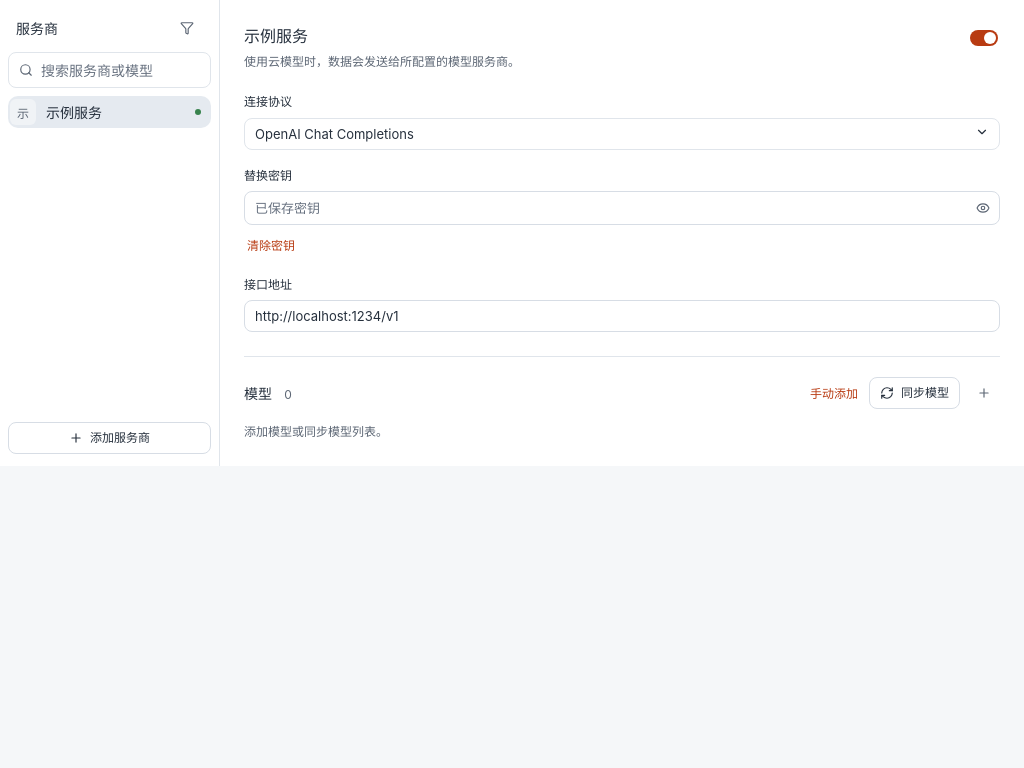
Test: 全选只暂存未添加模型，逐项取消后退出不会保存，重新打开清空选择
Click the button "同步模型": (914, 393) top-left (869, 377), bottom-right (960, 409)
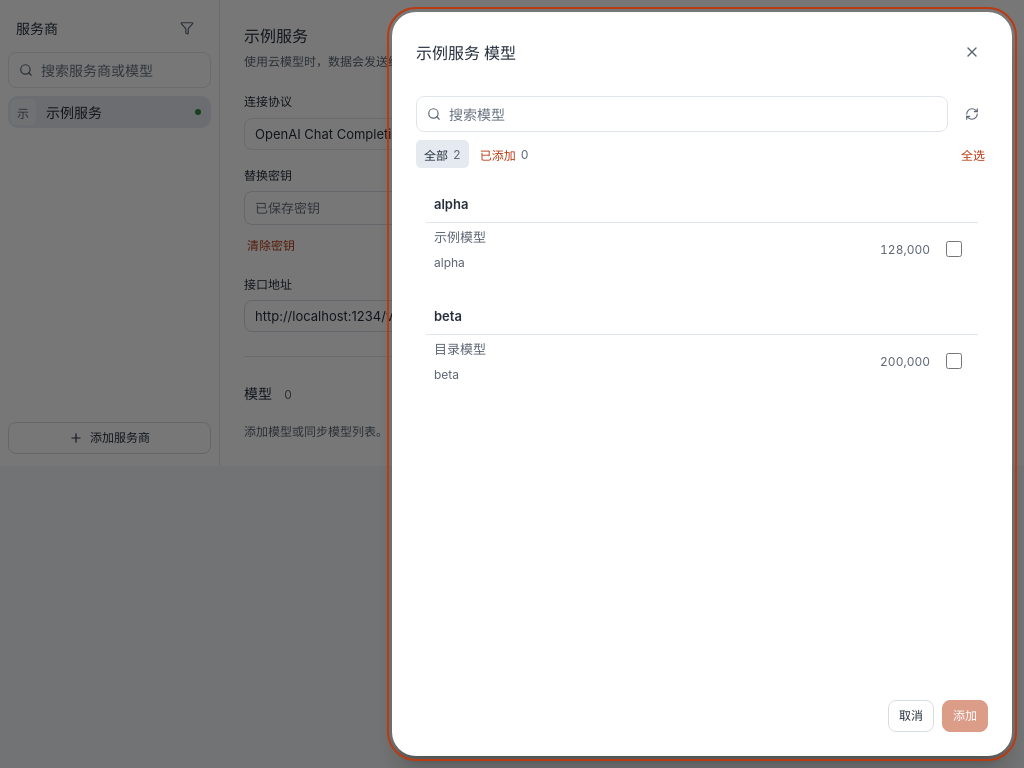
Expected: the checkbox named "选择目录模型" is shown, top-left (946, 354), bottom-right (962, 370)
Click the button "全选": (973, 154) top-left (958, 140), bottom-right (988, 168)
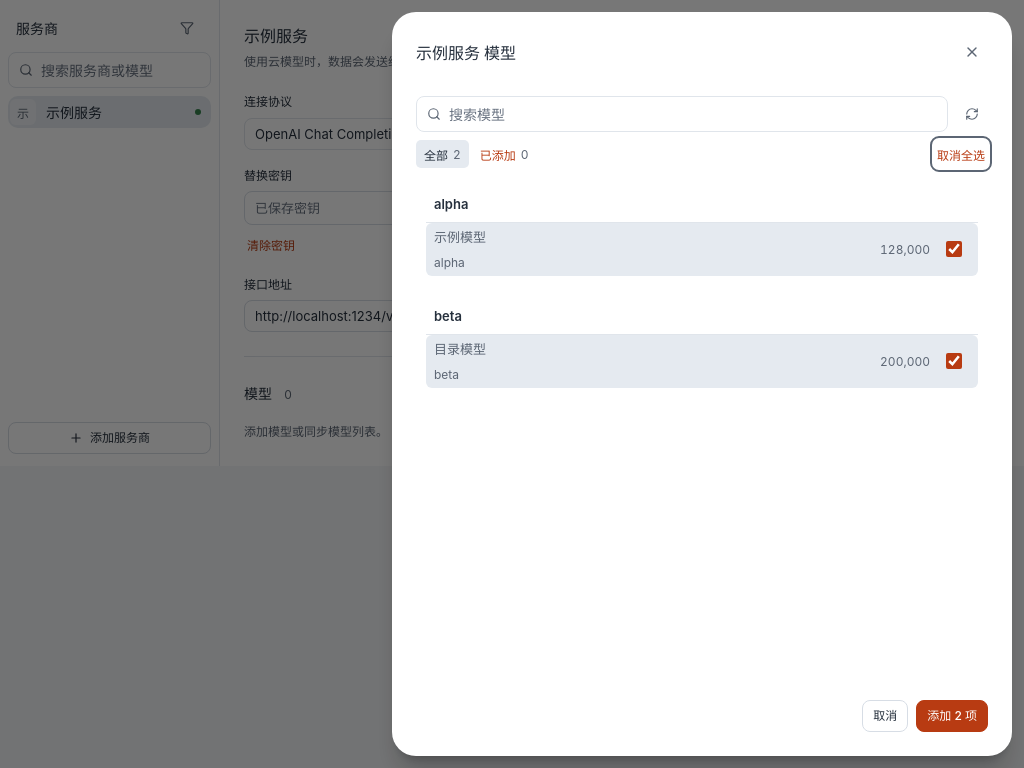
Expected: the checkbox named "选择示例模型" is checked, top-left (946, 242), bottom-right (962, 258)
Expected: the checkbox named "选择目录模型" is checked
Click the checkbox named "选择目录模型": (954, 362) top-left (946, 354), bottom-right (962, 370)
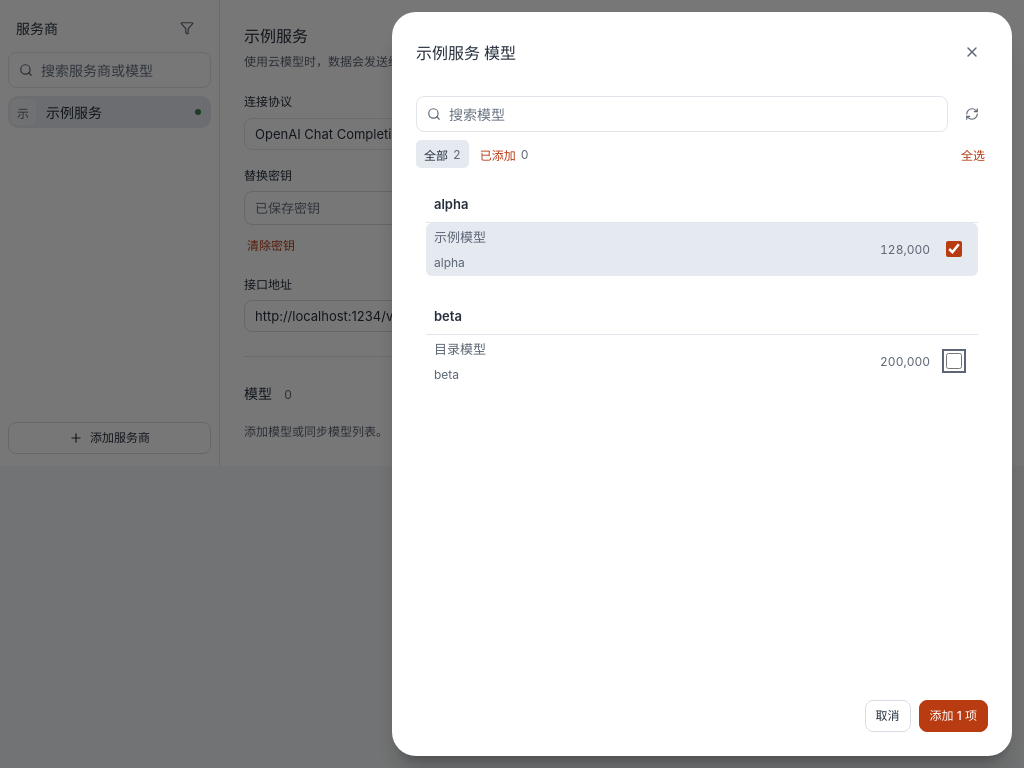
Expected: the button "添加 1 项" is enabled, top-left (919, 700), bottom-right (988, 732)
Click the button "取消": (888, 716) top-left (865, 700), bottom-right (911, 732)
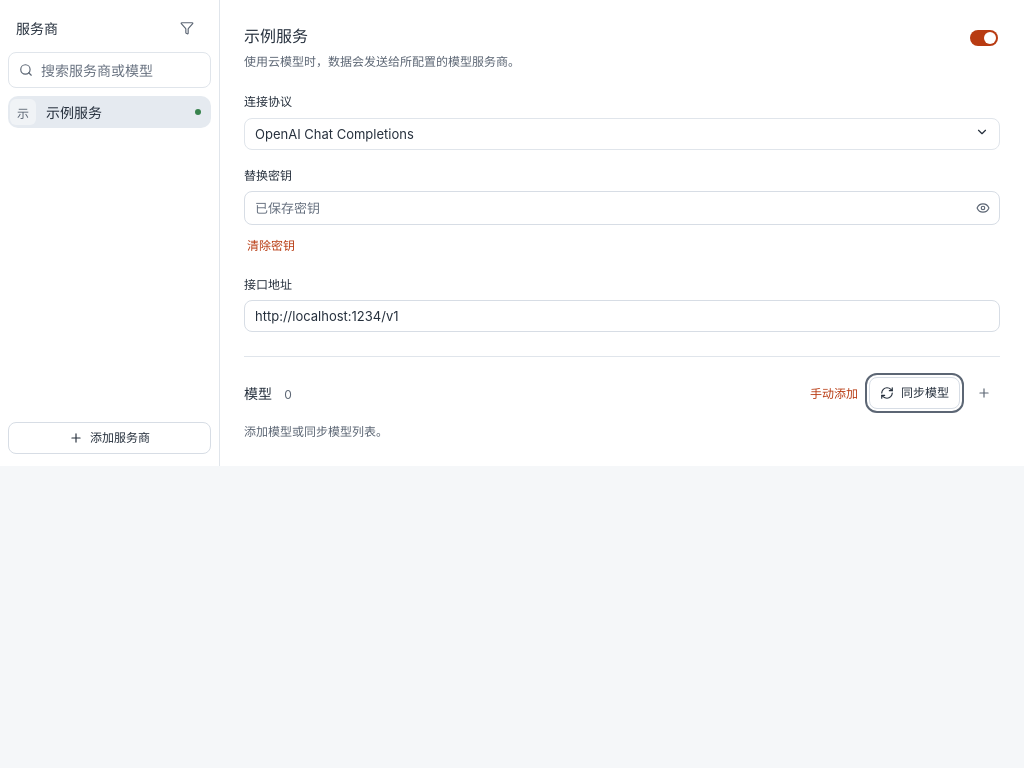
Click the button "同步模型": (914, 393) top-left (869, 377), bottom-right (960, 409)
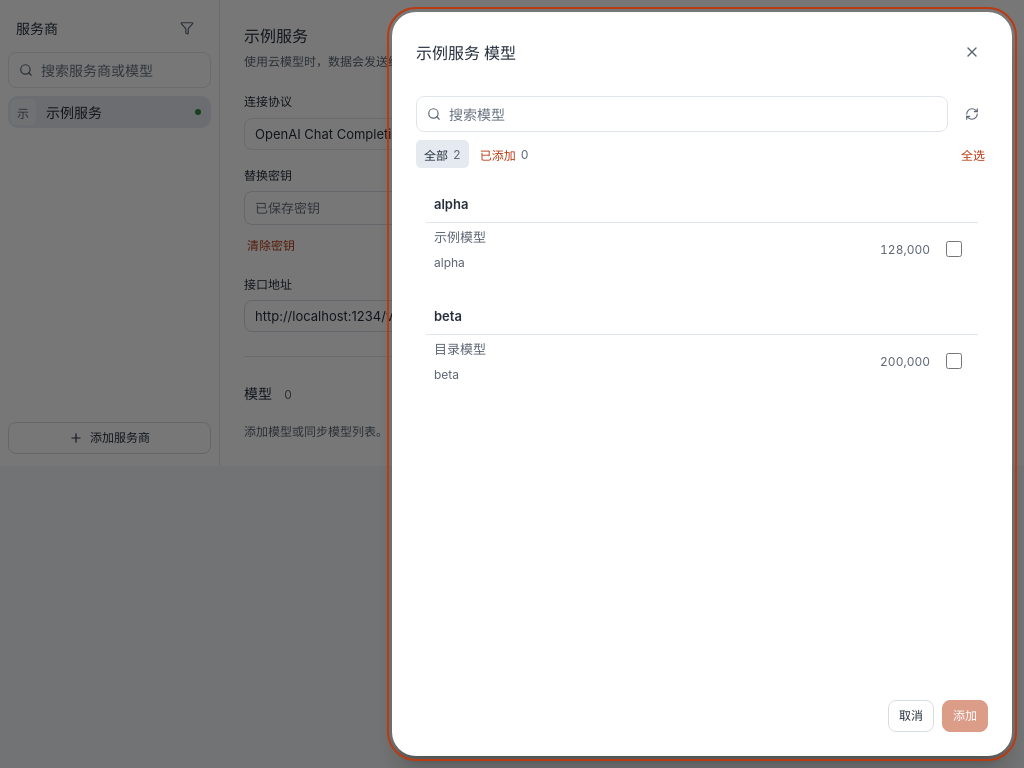
Expected: the checkbox named "选择示例模型" is not checked, top-left (946, 242), bottom-right (962, 258)
Expected: the checkbox named "选择目录模型" is not checked, top-left (946, 354), bottom-right (962, 370)
Expected: the button "添加" is disabled, top-left (942, 700), bottom-right (988, 732)
